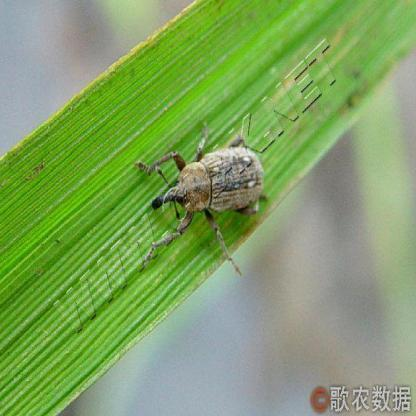rice-bug: (143, 123, 267, 256)
